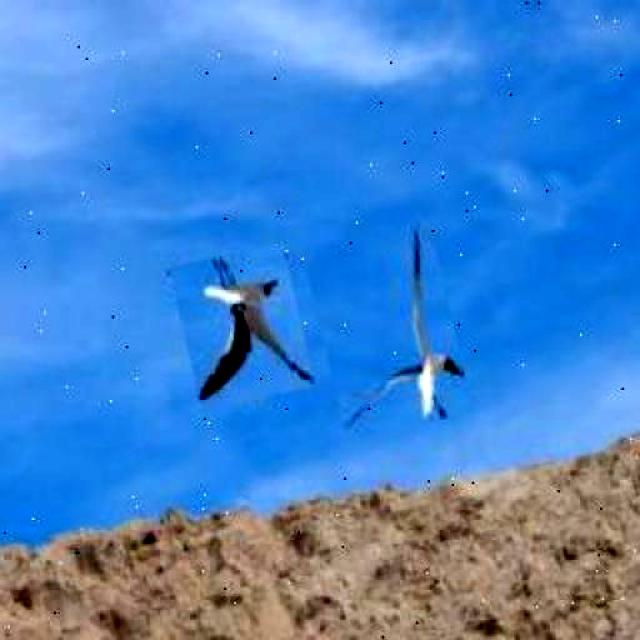airplane: (302, 219, 472, 441), (169, 241, 315, 411)
